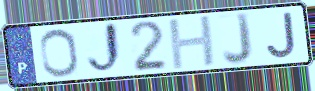2: (128, 20, 170, 74)
H: (166, 14, 219, 72)
J: (85, 20, 126, 78), (220, 11, 255, 67), (265, 10, 299, 60)
O: (37, 27, 81, 79)
